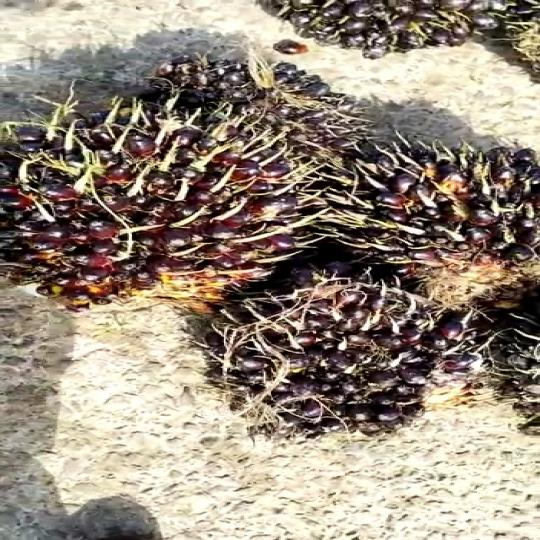kurang masak: (0, 95, 320, 310), (211, 275, 486, 454), (320, 134, 540, 300)
